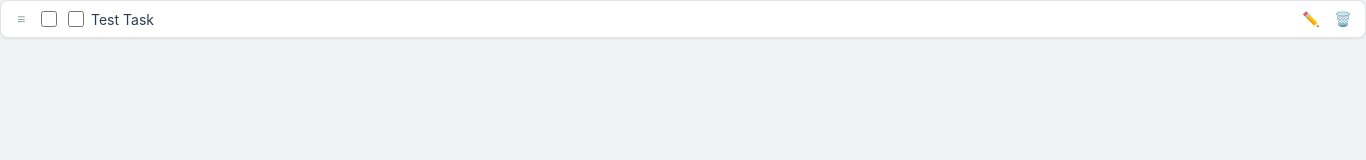
Test case: TaskCard › enters edit mode and shows input pre-filled with task name
The width and height of the screenshot is (1366, 160).
What coordinates should you click on to do the following:
click the button named "Edit task"
I would click on:
 (1311, 19)
Its box is [1297,5,1325,33].
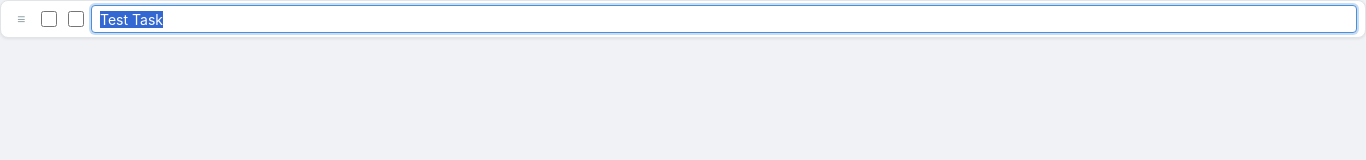
Expected: the field named "Edit task name" holds "Test Task", [91,5,1357,33]
